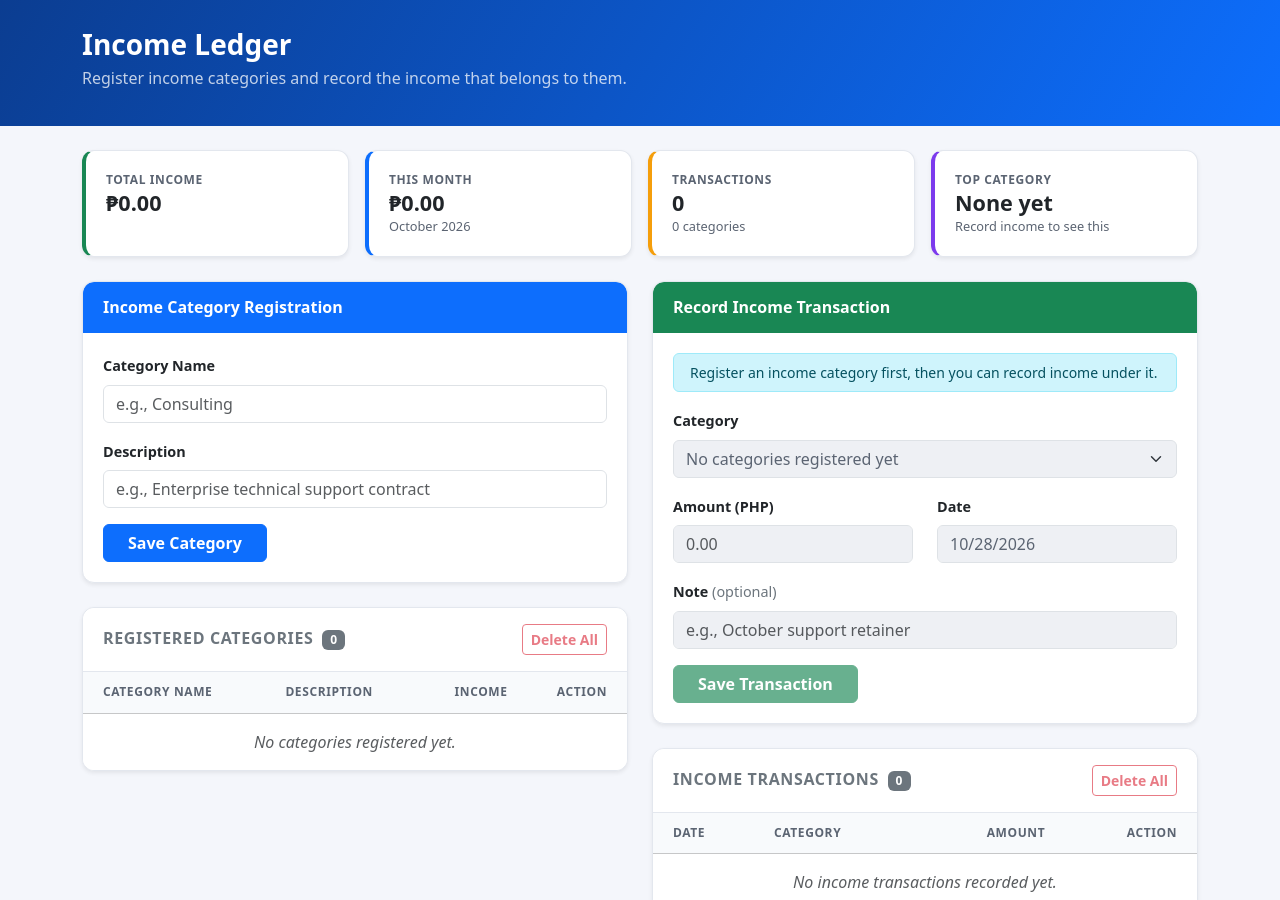
Test case: category registration (original behaviour) › deletes one category after confirmation and restores the empty state
The width and height of the screenshot is (1280, 900).
Type "Consulting" into the field labelled "Category Name".
click(355, 404); type("Consulting")  # box [103,385,607,423]
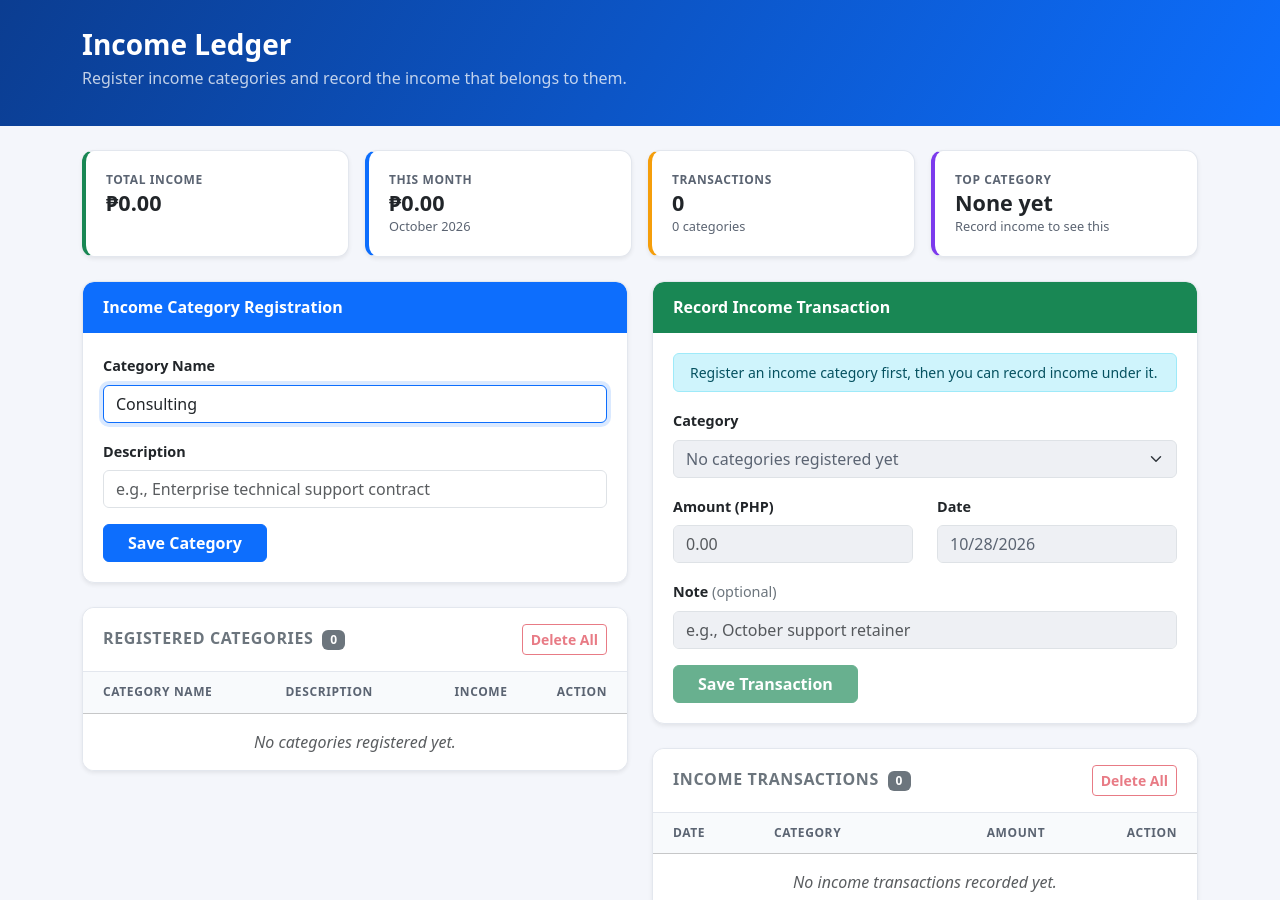
Type "Support" into the field labelled "Description".
click(355, 489); type("Support")  # box [103,470,607,508]
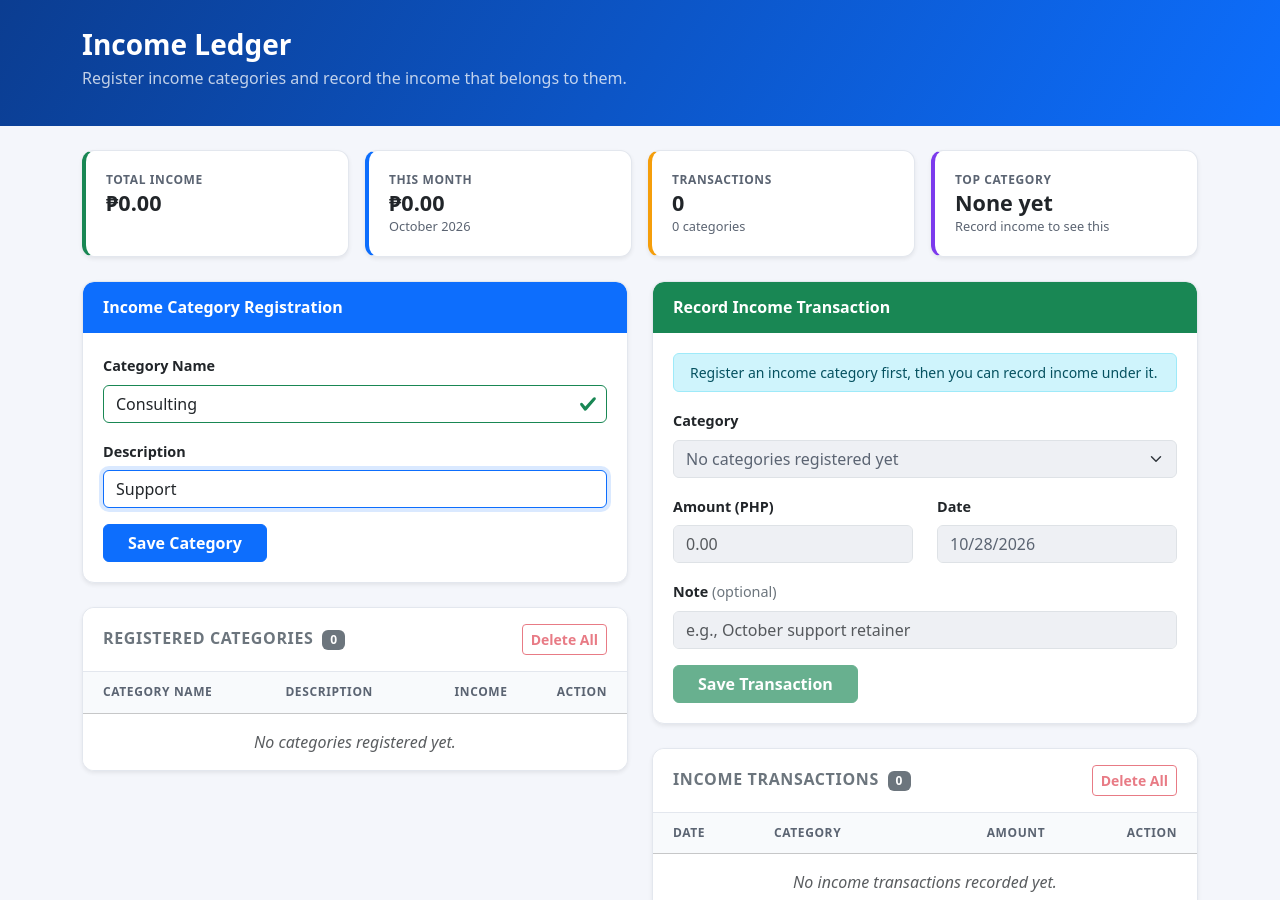
Click the button "Save Category".
click(185, 543)  # box [103,524,267,562]
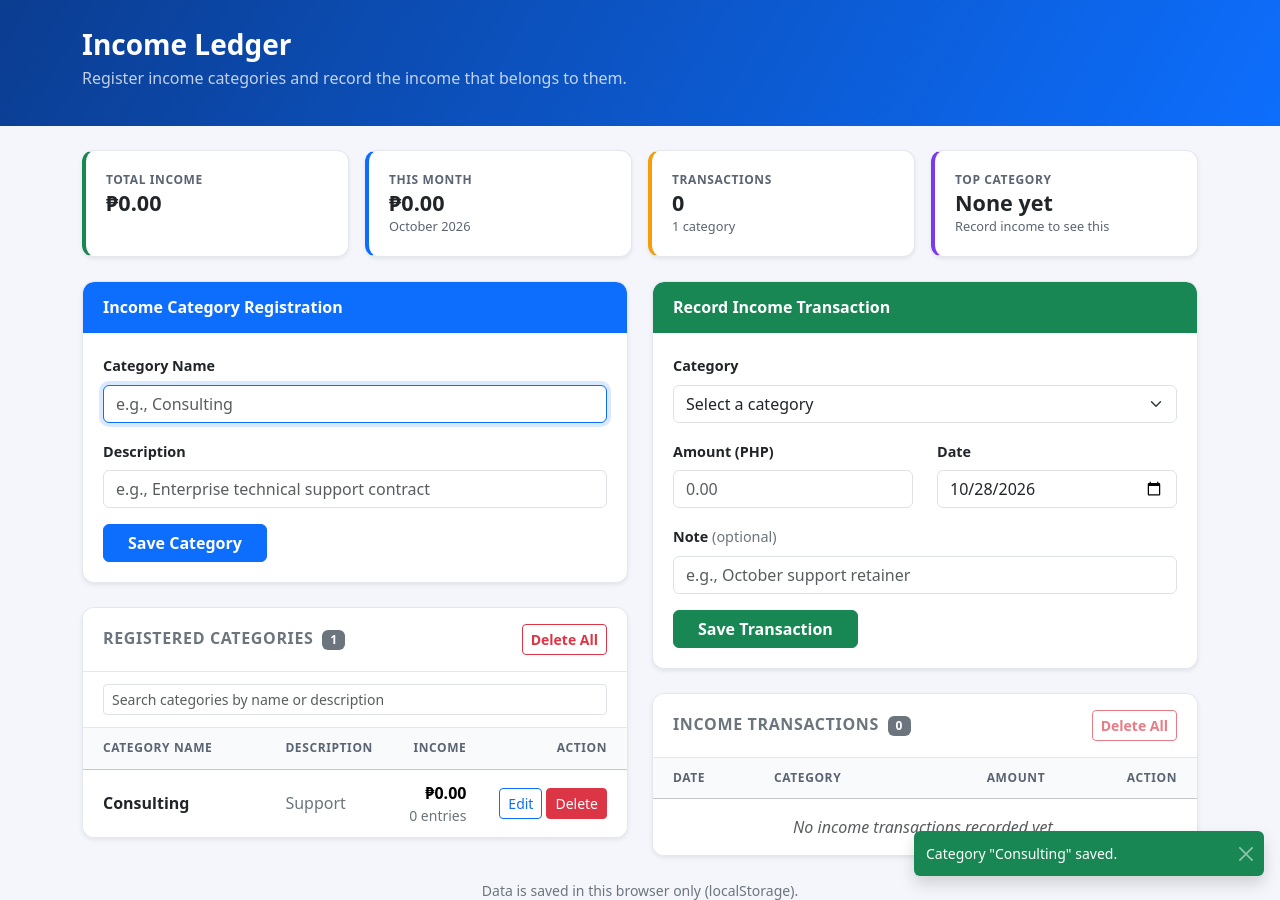
Click the button named "Delete Consulting".
click(577, 803)  # box [546,788,607,819]
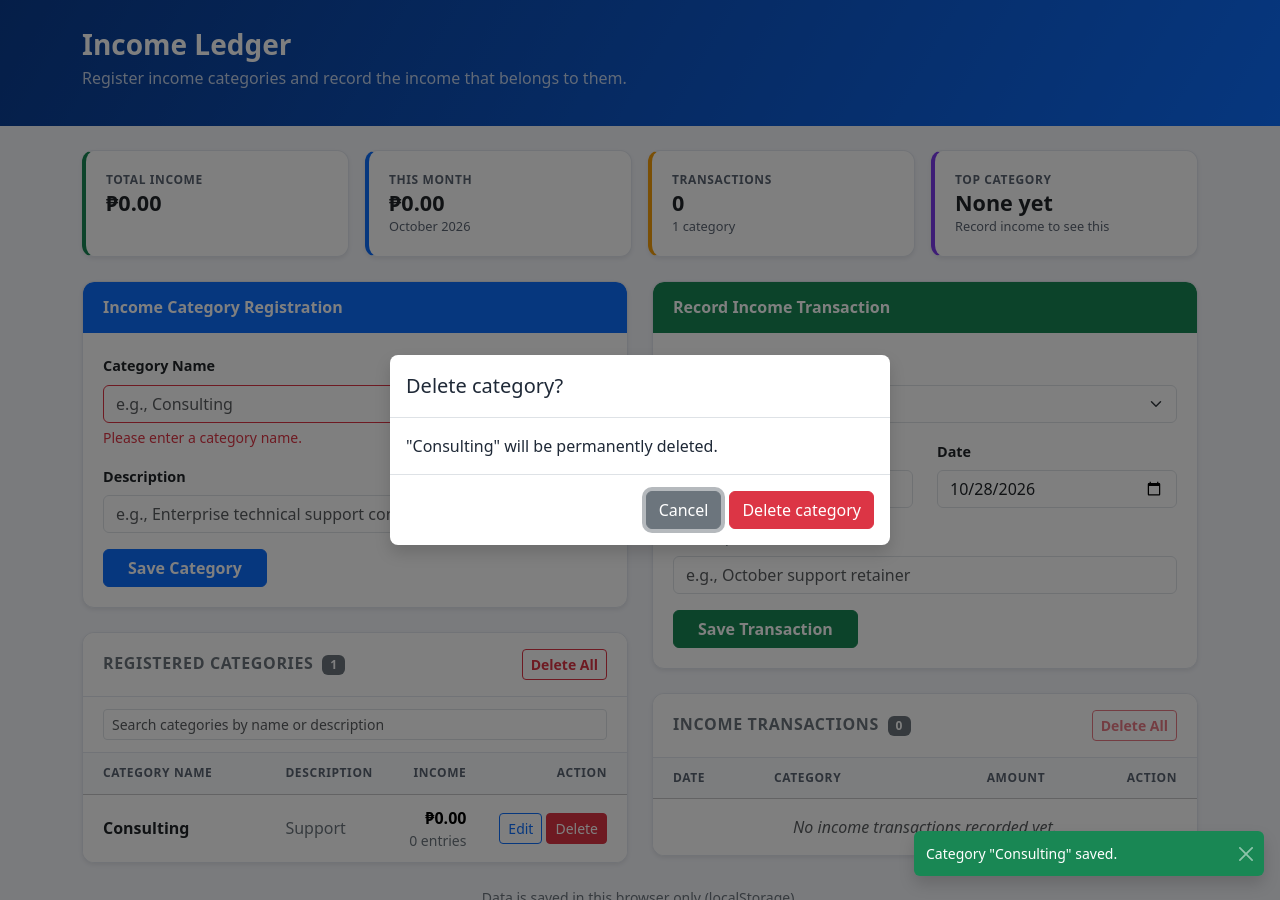
Result: the dialog is shown at [390,355,890,545]
Click the button "Delete category".
click(802, 510)  # box [729,491,874,529]
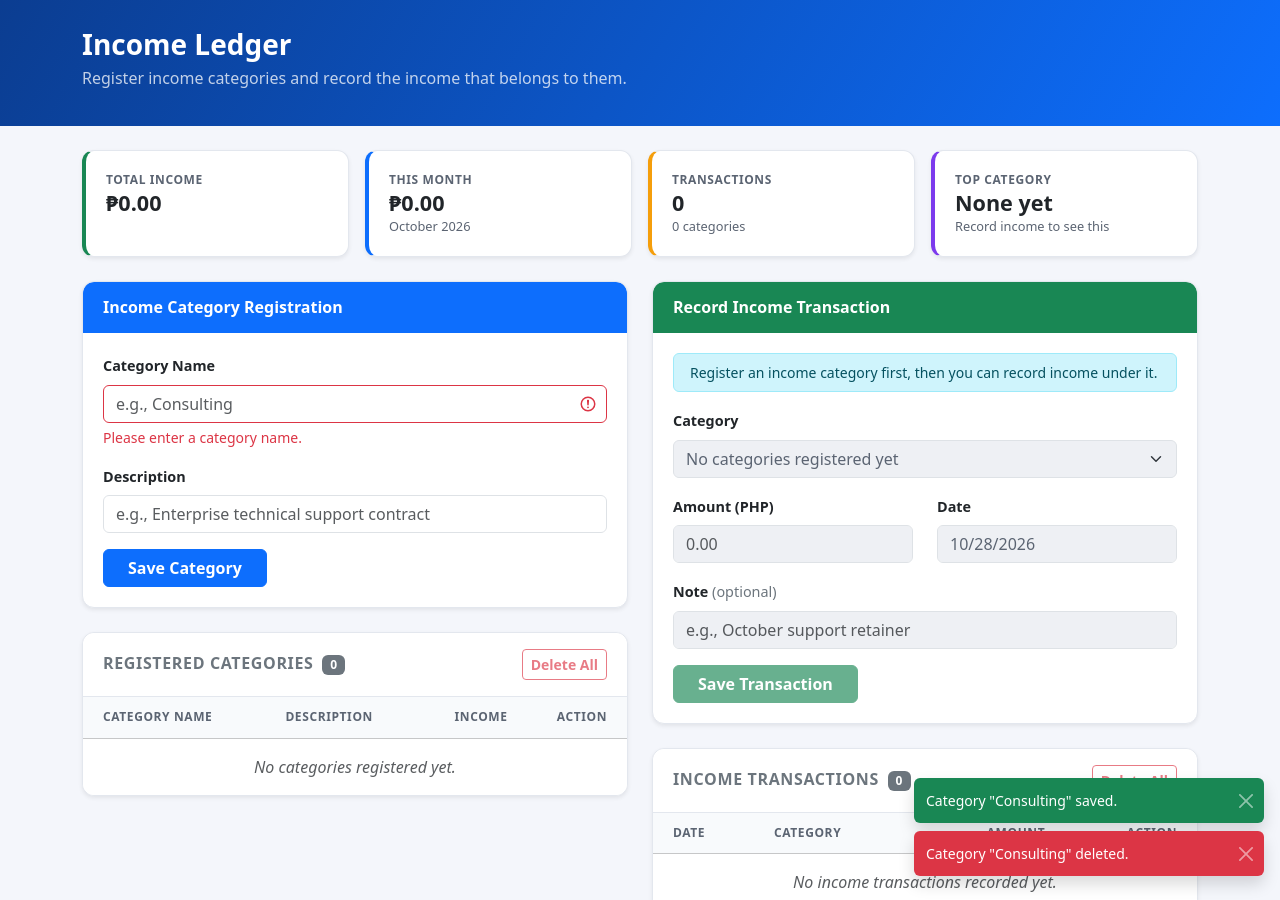
Result: the dialog is gone
Result: the text "No categories registered yet." is shown at [83,738,627,795]
